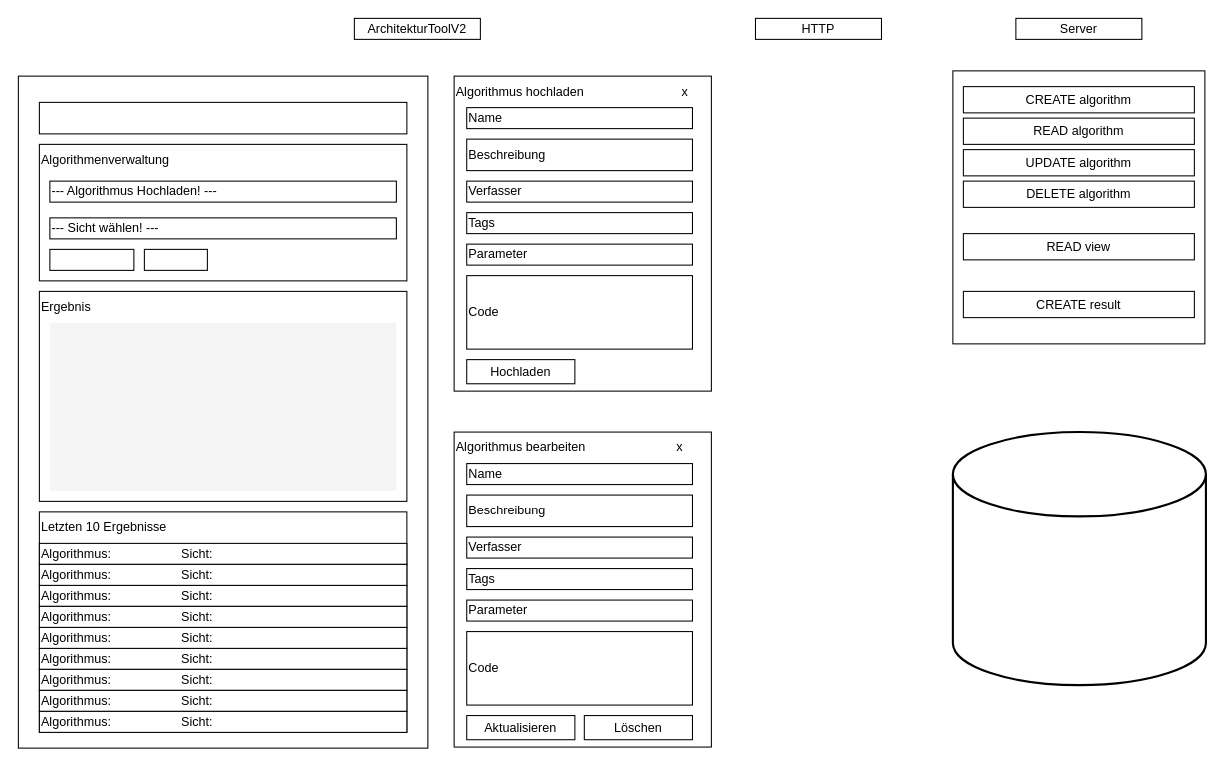
This 1225x766 diagram has some shape labels left out. The centre of each missing label's shape, as x and y in pixels:
Architekturvalidierung: (222,117)
Hochladen/Bearbeiten: (91,259)
Validieren: (175,259)
